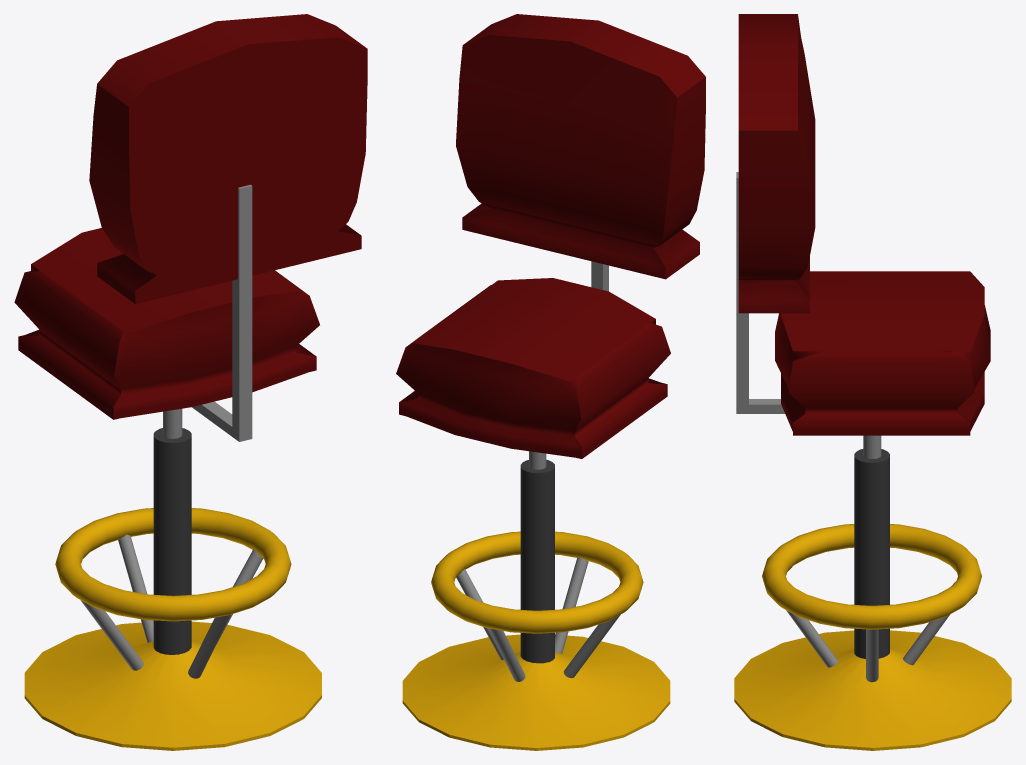
File: silla.fbx
3 views of the same model, side by side, from view 1: azimuth 30°, elevation 25°; view 2: azimuth 150°, elevation 25°; view 3: azimuth 270°, elevation 25° (orthographic). The views are drawn at different scales.
Visible parts, largest first — view 1: Box004, Box001, Cylinder003, Torus001, Cylinder001, Box002, Cylinder006, Cylinder007, Cylinder004; view 2: Box004, Box001, Cylinder003, Torus001, Cylinder001, Cylinder006, Cylinder004, Cylinder007, Cylinder005; view 3: Box001, Cylinder003, Box004, Torus001, Cylinder001, Box002, Cylinder004, Cylinder007, Cylinder005.
Part boxes in pixels (x1,y1,x2,y2): Box004: (89,14,367,304); Box001: (14,228,319,419); Cylinder003: (24,621,321,750); Torus001: (55,508,291,621); Cylinder001: (153,428,191,654); Box002: (192,184,252,441); Cylinder006: (80,600,143,670); Cylinder007: (118,534,153,642); Cylinder004: (188,614,230,678); Box004: (456,14,705,279); Box001: (396,278,670,458); Cylinder003: (402,634,670,750); Torus001: (431,531,643,633); Cylinder001: (520,459,554,663); Cylinder006: (564,615,620,678); Cylinder004: (555,557,588,653); Cylinder007: (489,628,525,681); Cylinder005: (456,569,503,659); Box001: (775,271,990,435); Cylinder003: (734,630,1011,750); Box004: (738,14,815,313); Torus001: (762,524,981,629); Cylinder001: (854,449,889,658); Box002: (736,172,784,413); Cylinder004: (786,610,837,667); Cylinder007: (903,614,949,665); Cylinder005: (866,629,878,682).
Bounding box in the file's own units: 18.38 × 46.67 × 18.1.
